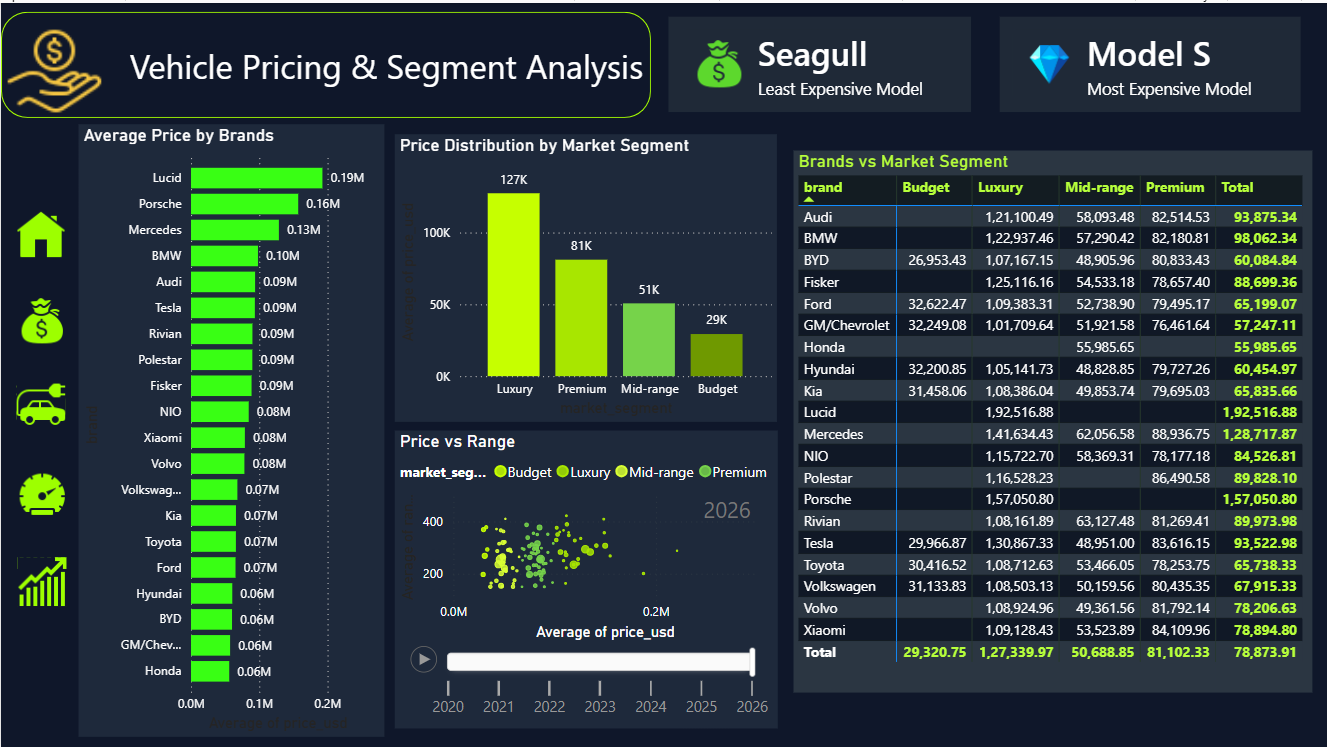

This screenshot's page, from the dashboard's own definition file:
{"tool":"powerbi","page":{"name":"Vehicle Analysis","canvas":[1280,720],"ordinal":2},"visuals":[{"type":"clusteredBarChart","title":"Average Price by Brands","fields":{"Category":["ev_market_2026.brand"],"Y":["Avg(ev_market_2026.price_usd)"]},"box":[74.8,117,295.6,591.2],"z":0},{"type":"clusteredColumnChart","title":"Price Distribution by Market Segment","fields":{"Category":["ev_market_2026.market_segment"],"Y":["Avg(ev_market_2026.price_usd)"]},"box":[380,126.7,369.2,277.5],"z":1000},{"type":"scatterChart","title":"Price vs Range","fields":{"Category":["ev_market_2026.model"],"Play":["ev_market_2026.year"],"Series":["ev_market_2026.market_segment"],"Size":["Sum(ev_market_2026.annual_sales_units)"],"X":["Avg(ev_market_2026.price_usd)"],"Y":["Avg(ev_market_2026.range_miles)"]},"box":[380,412.6,369.2,287.1],"z":2000},{"type":"pivotTable","title":"Brands vs Market Segment","fields":{"Columns":["ev_market_2026.market_segment"],"Rows":["ev_market_2026.brand"],"Values":["Avg(ev_market_2026.price_usd)"]},"box":[764.9,142.4,500.7,523.6],"z":3000},{"type":"cardVisual","fields":{"Data":["ev_market_2026.Most Expensive Model"]},"box":[959.1,8.4,300.4,102.5],"z":4000},{"type":"cardVisual","fields":{"Data":["ev_market_2026.Least Expensive Model"]},"box":[639.4,8.4,302.8,102.5],"z":5000},{"type":"shape","box":[0,8.4,627.3,102.5],"z":6000},{"type":"image","box":[0,20.5,103.8,90.5],"z":7000},{"type":"actionButton","box":[10.9,196.6,63.9,55.5],"z":8000},{"type":"actionButton","box":[12.1,279.9,63.9,55.5],"z":9000},{"type":"actionButton","box":[10.9,359.5,63.9,55.5],"z":10000},{"type":"actionButton","box":[12.1,446.4,63.9,55.5],"z":11000},{"type":"actionButton","box":[12.1,530.8,62.7,55.5],"z":12000}]}

Visuals, with their boxes in screenshot pixels (x1, y1, x2, y2), scaled from the page's 1280x720 canvas onto the 1327x747 screenshot:
"Average Price by Brands" clusteredBarChart: <region>78, 121, 384, 735</region>
"Price Distribution by Market Segment" clusteredColumnChart: <region>394, 131, 777, 419</region>
"Price vs Range" scatterChart: <region>394, 428, 777, 726</region>
"Brands vs Market Segment" pivotTable: <region>793, 148, 1312, 691</region>
cardVisual - ev_market_2026.Most Expensive Model: <region>994, 9, 1306, 115</region>
cardVisual - ev_market_2026.Least Expensive Model: <region>663, 9, 977, 115</region>
shape: <region>0, 9, 650, 115</region>
image: <region>0, 21, 108, 115</region>
actionButton: <region>11, 204, 78, 262</region>
actionButton: <region>13, 290, 79, 348</region>
actionButton: <region>11, 373, 78, 431</region>
actionButton: <region>13, 463, 79, 521</region>
actionButton: <region>13, 551, 78, 608</region>
